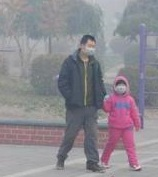person: (54, 31, 109, 172), (101, 73, 145, 172)
